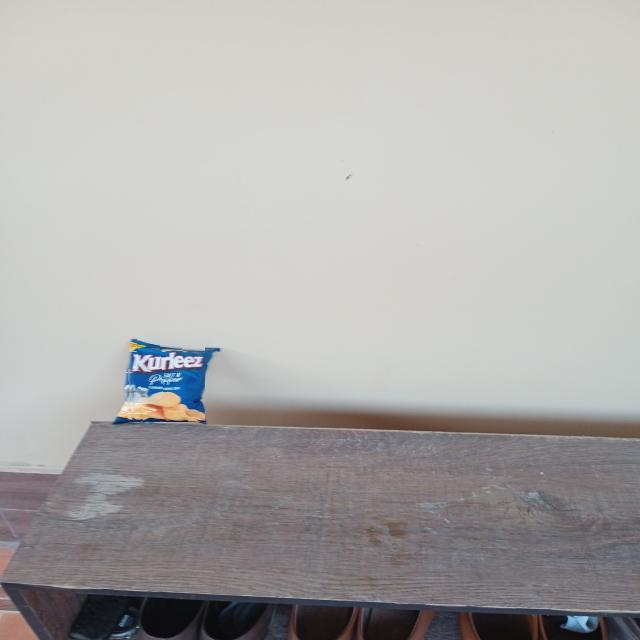Plastic: (125, 338, 205, 422)
